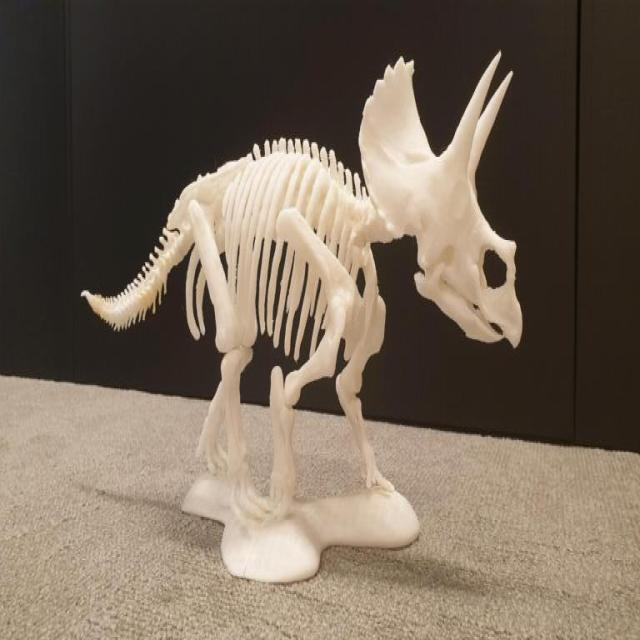Without deffect: (76, 44, 532, 597)
